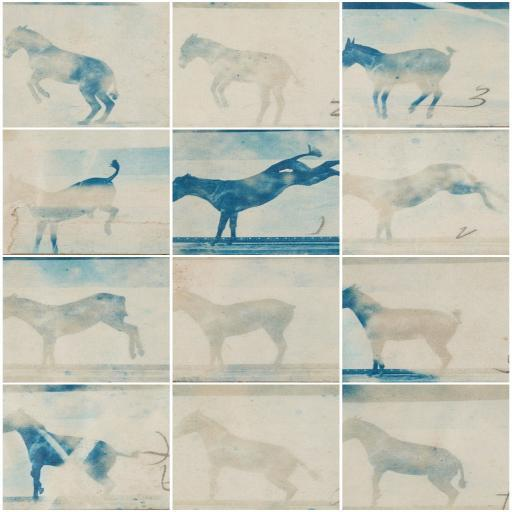Horse: (169, 143, 342, 244), (0, 406, 141, 500), (342, 163, 509, 239), (175, 32, 305, 128), (0, 162, 122, 256), (3, 25, 117, 125), (4, 293, 148, 369), (168, 286, 298, 370), (341, 282, 464, 368), (339, 36, 455, 118)
